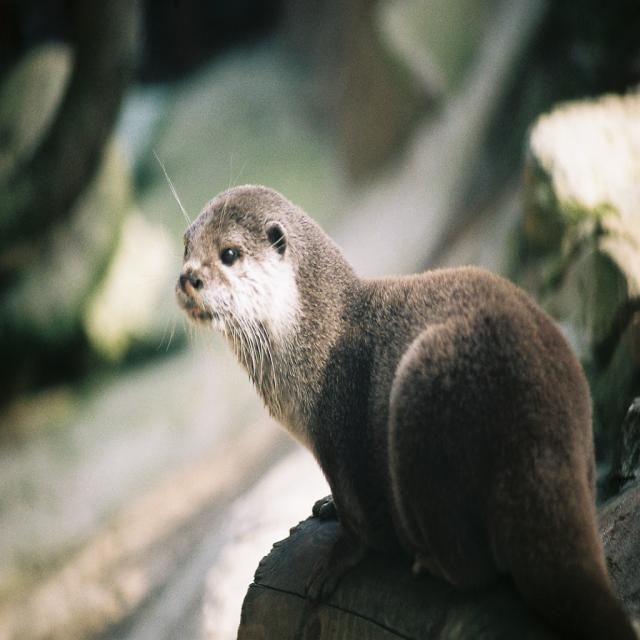otter: (178, 185, 640, 640)
